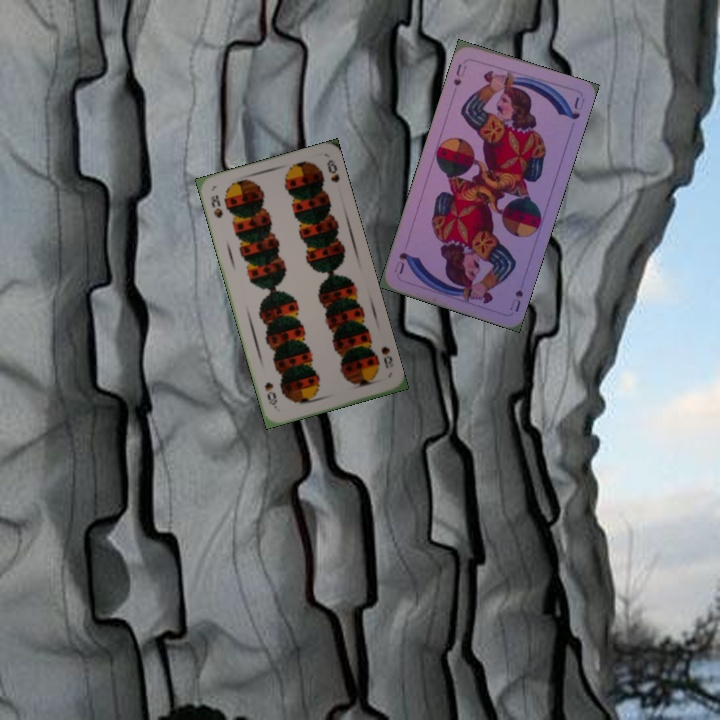S8: (206, 191, 225, 221), (377, 342, 395, 371)
SU: (506, 286, 526, 315), (449, 60, 469, 88)
